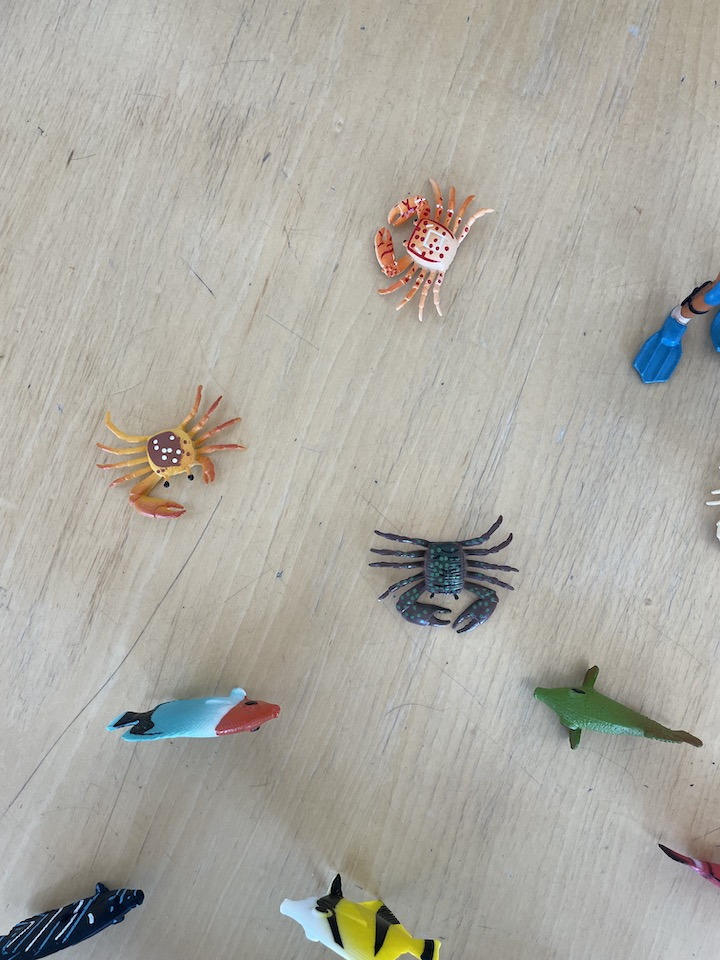crab: (93, 384, 247, 520), (368, 515, 522, 634), (374, 177, 497, 321), (705, 464, 720, 543)
danger: (280, 871, 443, 960)
diver: (630, 270, 720, 388)
fish: (531, 664, 705, 755), (1, 882, 145, 960), (109, 687, 283, 743), (655, 838, 720, 890)
